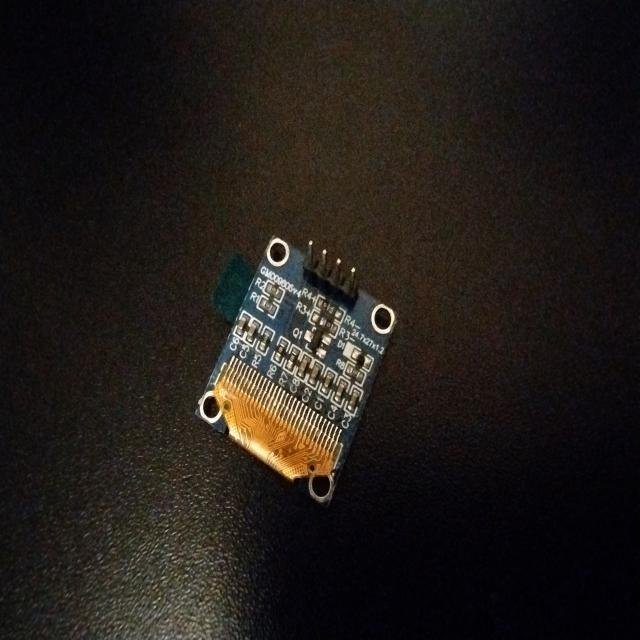oled: (181, 226, 401, 507)
